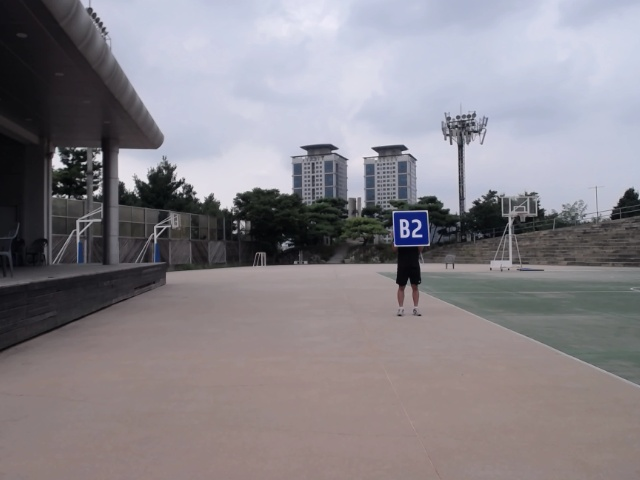delivery_b2: (392, 210, 431, 247)
